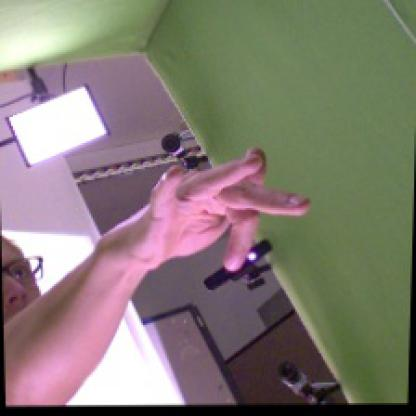Hand: (95, 146, 314, 274)
